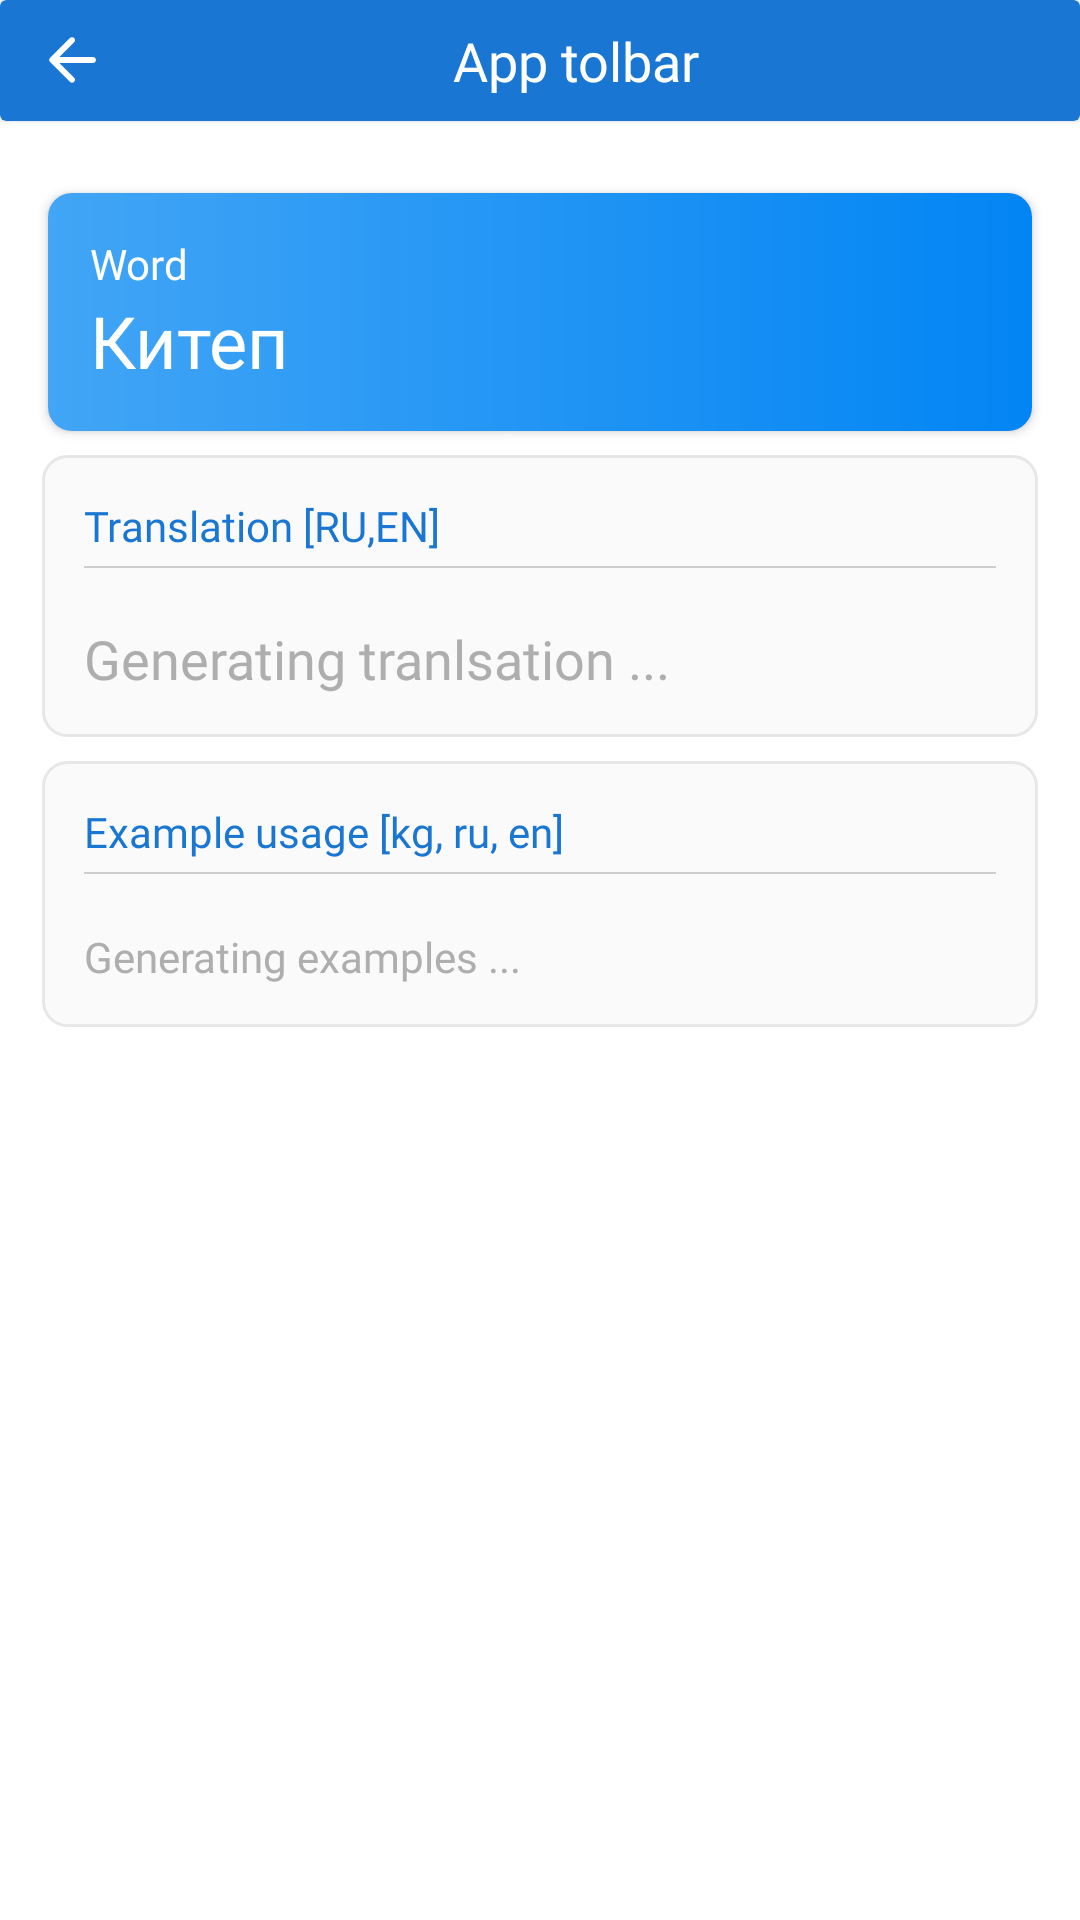

Where to tap for icons on this 1080w x 1920h app screen, as (x,y):
back: (72,60)
